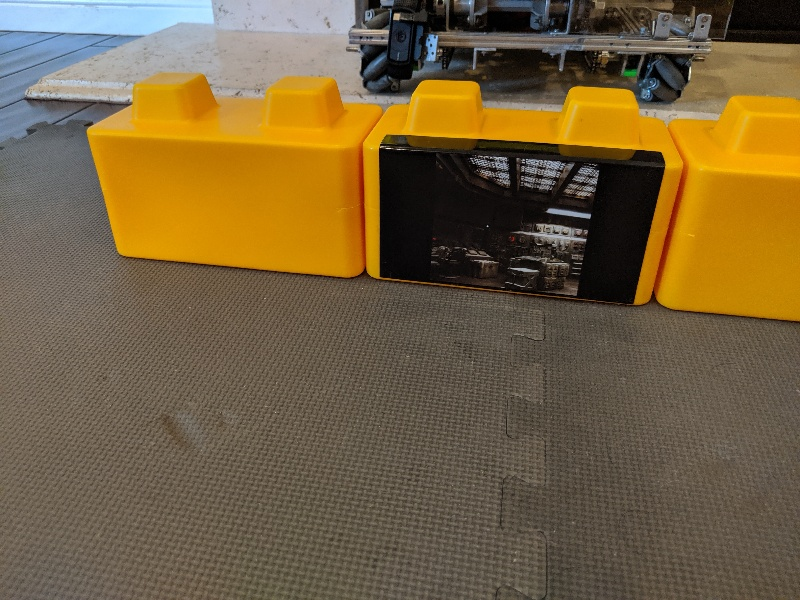Skystone: (374, 128, 668, 308)
